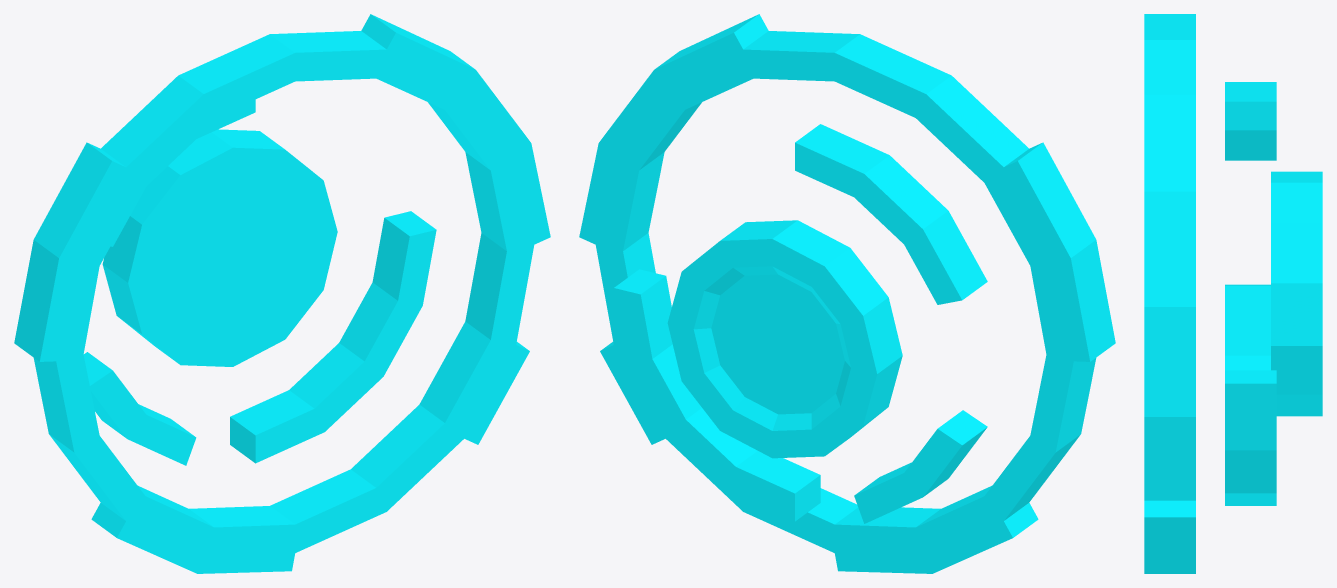
Rendered from SM_Hud_Rings_01.glb.
3 views of the same model, side by side, from view 1: azimuth 30°, elevation 25°; view 2: azimuth 150°, elevation 25°; view 3: azimuth 270°, elevation 25° (orthographic).
Visible parts, largest first — view 1: SM_Hud_Rings_01; view 2: SM_Hud_Rings_01; view 3: SM_Hud_Rings_01.
Boxes of the visible parts, box(x1,y1,x2,y2) form: SM_Hud_Rings_01: box(14, 14, 550, 573); SM_Hud_Rings_01: box(579, 14, 1115, 573); SM_Hud_Rings_01: box(1144, 14, 1322, 573).
Bounding box in the file's own units: 0.2513 × 0.2432 × 0.0748.
